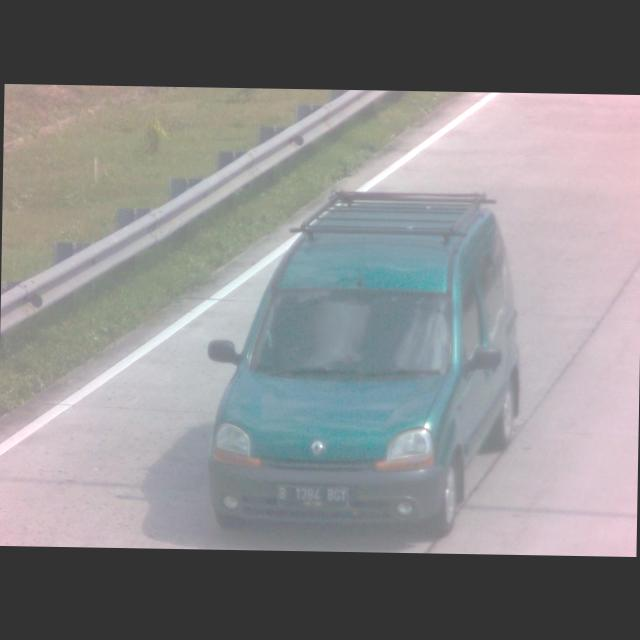plate: (274, 482, 348, 510)
